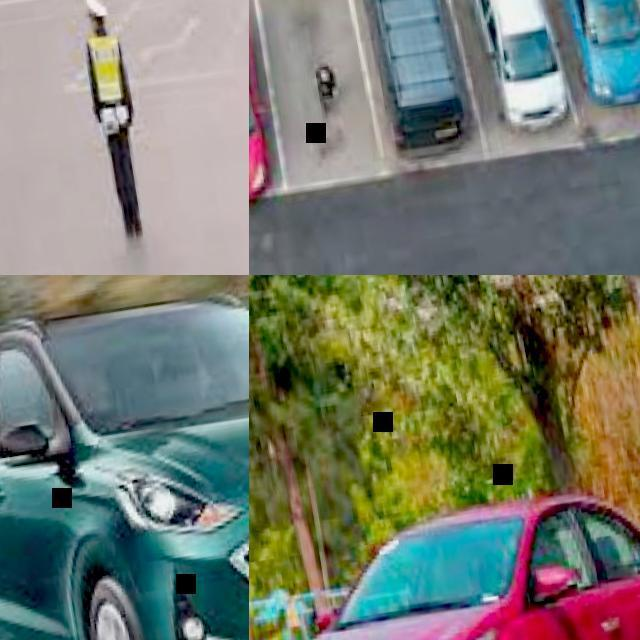car: (2, 319, 251, 639), (285, 499, 639, 639)
